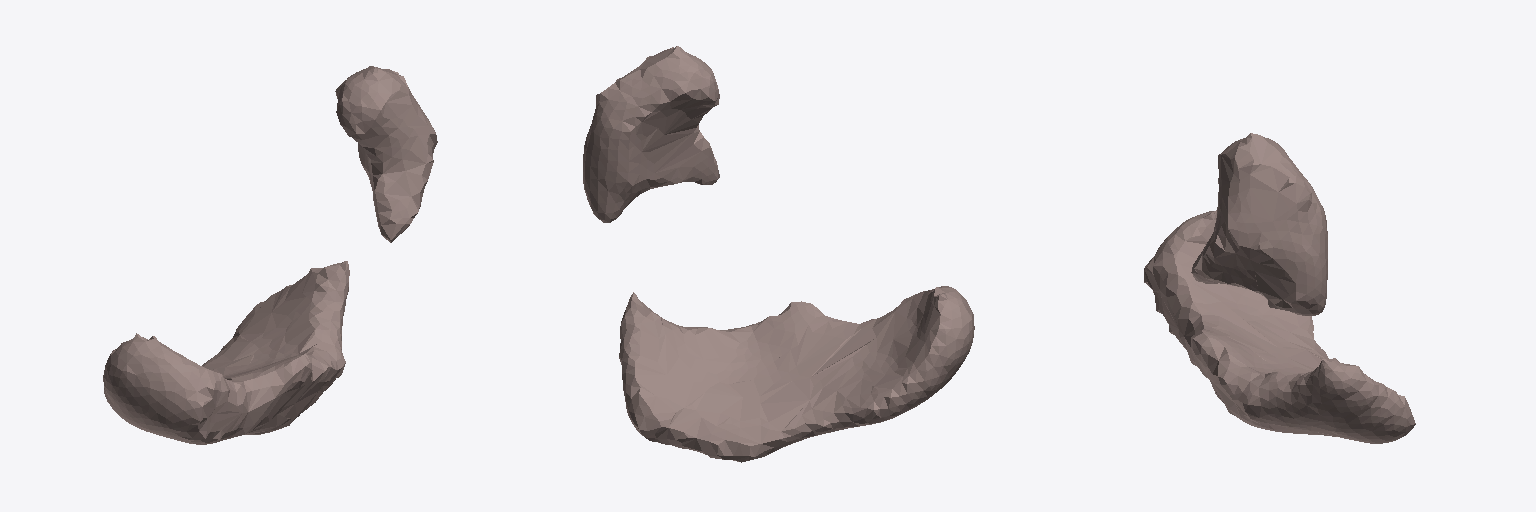
The model's file is Model_458_RH__Superficial_gray_layer_of_the_superior_colliculcus_(SuG).obj.
The picture shows the model from 3 angles: view 1: azimuth 30°, elevation 25°; view 2: azimuth 150°, elevation 25°; view 3: azimuth 270°, elevation 25°; orthographic projection.
Size of the model in its own units: 3.18 by 3.07 by 2.18.